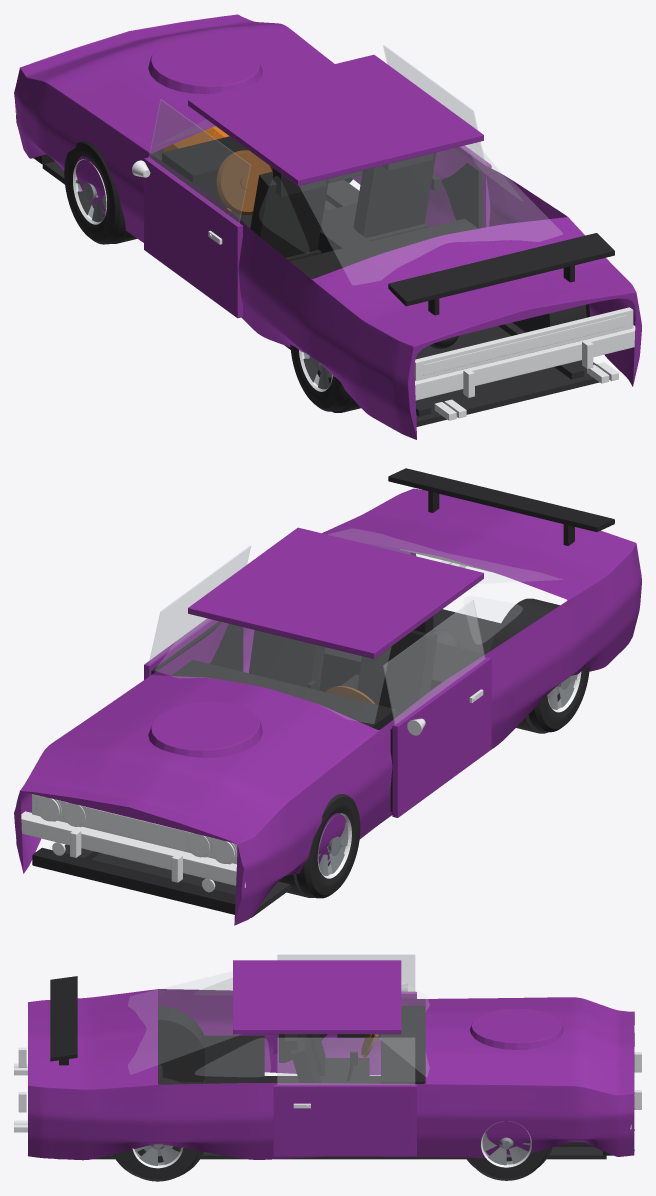
File: vehicle.opt.glb
3 renders of one model, top to bottom at view 1: azimuth 30°, elevation 25°; view 2: azimuth 150°, elevation 25°; view 3: azimuth 270°, elevation 25°, orthographic. The views are drawn at different scales.
Parts seen in each view (by area): view 1: BODY_Challenger_1970_Unibody, GLASS_Challenger_1970_Greenhouse, BODY_Challenger_1970_RoofHardtop, INTERIOR_Challenger_1970_Cockpit, LIGHTING_Challenger_1970_OpticsAndChrome, DOOR_FL_Challenger_1970, CHASSIS_Challenger_1970_EBodyPlatform, AERO_Challenger_1970_ChinSpoilerAndGoWing, DOOR_FL_Challenger_1970_WindowGlass, WHEEL_FL_Rallye, INTERIOR_Challenger_1970_SteeringWheel, WHEEL_RL_Rallye (+4 smaller); view 2: BODY_Challenger_1970_Unibody, BODY_Challenger_1970_RoofHardtop, GLASS_Challenger_1970_Greenhouse, INTERIOR_Challenger_1970_Cockpit, LIGHTING_Challenger_1970_OpticsAndChrome, DOOR_FL_Challenger_1970, AERO_Challenger_1970_ChinSpoilerAndGoWing, DOOR_FL_Challenger_1970_WindowGlass, CHASSIS_Challenger_1970_EBodyPlatform, WHEEL_FL_Rallye, DOOR_FR_Challenger_1970_WindowGlass, WHEEL_RL_Rallye (+2 smaller); view 3: BODY_Challenger_1970_Unibody, BODY_Challenger_1970_RoofHardtop, GLASS_Challenger_1970_Greenhouse, DOOR_FR_Challenger_1970, INTERIOR_Challenger_1970_Cockpit, CHASSIS_Challenger_1970_EBodyPlatform, DOOR_FR_Challenger_1970_WindowGlass, AERO_Challenger_1970_ChinSpoilerAndGoWing, DOOR_FL_Challenger_1970_WindowGlass, WHEEL_FR_Rallye, LIGHTING_Challenger_1970_OpticsAndChrome, WHEEL_RR_Rallye (+1 smaller).
Boxes of the visible parts, left/top/right/bottom form: BODY_Challenger_1970_Unibody: left=14, top=14, right=641, bottom=439; GLASS_Challenger_1970_Greenhouse: left=196, top=120, right=562, bottom=284; BODY_Challenger_1970_RoofHardtop: left=188, top=54, right=483, bottom=185; INTERIOR_Challenger_1970_Cockpit: left=162, top=136, right=477, bottom=278; LIGHTING_Challenger_1970_OpticsAndChrome: left=16, top=109, right=635, bottom=420; DOOR_FL_Challenger_1970: left=144, top=157, right=242, bottom=318; CHASSIS_Challenger_1970_EBodyPlatform: left=42, top=148, right=599, bottom=426; AERO_Challenger_1970_ChinSpoilerAndGoWing: left=33, top=154, right=614, bottom=315; DOOR_FL_Challenger_1970_WindowGlass: left=149, top=99, right=250, bottom=223; WHEEL_FL_Rallye: left=64, top=141, right=125, bottom=244; INTERIOR_Challenger_1970_SteeringWheel: left=216, top=150, right=272, bottom=214; WHEEL_RL_Rallye: left=290, top=344, right=350, bottom=411; BODY_Challenger_1970_Unibody: left=14, top=488, right=641, bottom=925; BODY_Challenger_1970_RoofHardtop: left=188, top=527, right=483, bottom=658; GLASS_Challenger_1970_Greenhouse: left=155, top=529, right=561, bottom=723; INTERIOR_Challenger_1970_Cockpit: left=171, top=616, right=484, bottom=729; LIGHTING_Challenger_1970_OpticsAndChrome: left=21, top=549, right=490, bottom=892; DOOR_FL_Challenger_1970: left=392, top=657, right=491, bottom=817; AERO_Challenger_1970_ChinSpoilerAndGoWing: left=32, top=468, right=614, bottom=914; DOOR_FL_Challenger_1970_WindowGlass: left=383, top=600, right=485, bottom=724; CHASSIS_Challenger_1970_EBodyPlatform: left=64, top=598, right=560, bottom=917; WHEEL_FL_Rallye: left=296, top=794, right=360, bottom=898; DOOR_FR_Challenger_1970_WindowGlass: left=149, top=546, right=250, bottom=664; WHEEL_RL_Rallye: left=528, top=666, right=589, bottom=732; BODY_Challenger_1970_Unibody: left=28, top=989, right=634, bottom=1160; BODY_Challenger_1970_RoofHardtop: left=233, top=960, right=401, bottom=1034; GLASS_Challenger_1970_Greenhouse: left=128, top=971, right=429, bottom=1076; DOOR_FR_Challenger_1970: left=273, top=1084, right=416, bottom=1156; INTERIOR_Challenger_1970_Cockpit: left=205, top=1006, right=425, bottom=1083; CHASSIS_Challenger_1970_EBodyPlatform: left=58, top=1006, right=606, bottom=1179; DOOR_FR_Challenger_1970_WindowGlass: left=277, top=1038, right=414, bottom=1084; AERO_Challenger_1970_ChinSpoilerAndGoWing: left=50, top=976, right=612, bottom=1155; DOOR_FL_Challenger_1970_WindowGlass: left=277, top=954, right=414, bottom=992; WHEEL_FR_Rallye: left=467, top=1121, right=547, bottom=1180; LIGHTING_Challenger_1970_OpticsAndChrome: left=14, top=1047, right=641, bottom=1132; WHEEL_RR_Rallye: left=118, top=1144, right=197, bottom=1181.
Size of what is drawn, in the model's own units: 1.98 by 1.27 by 5.03.
